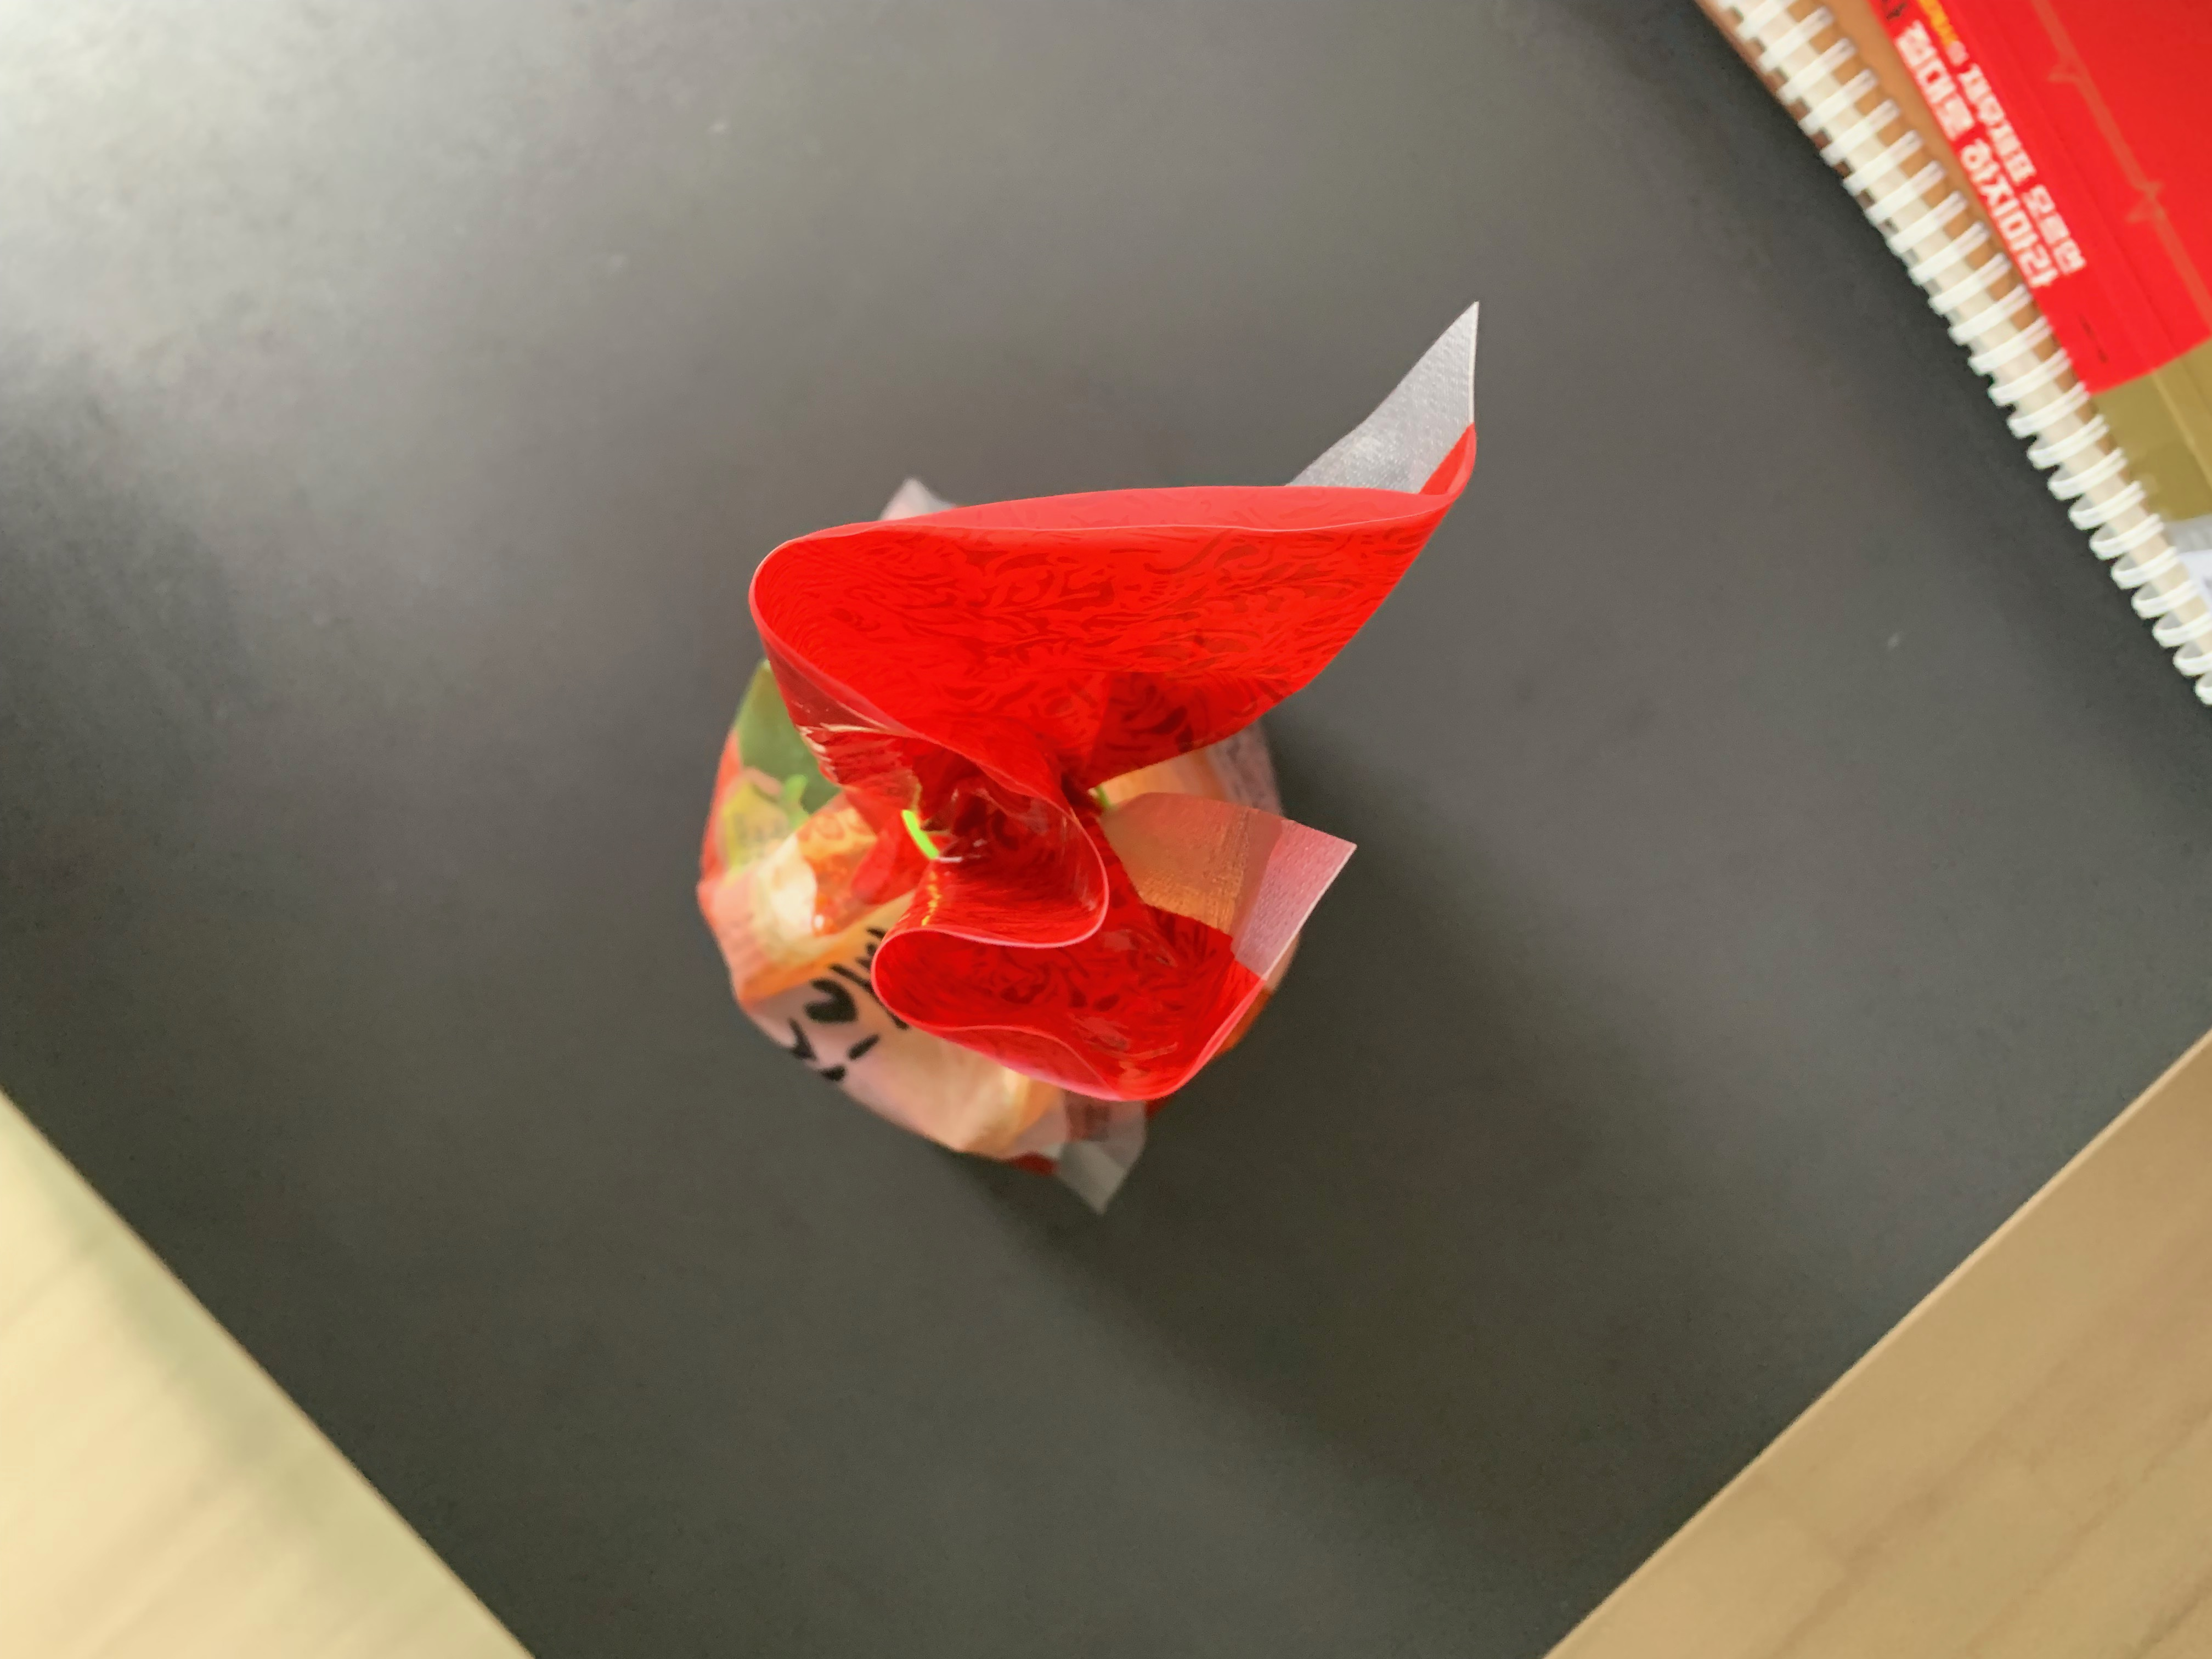kimchi: (702, 437, 1475, 1171)
